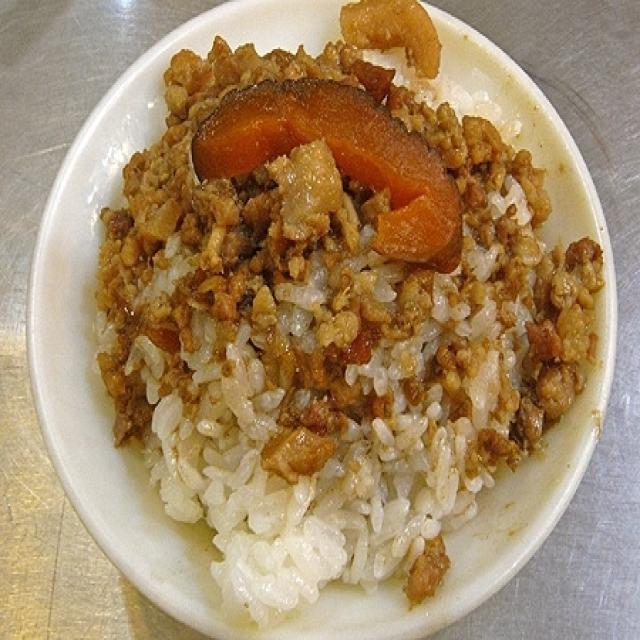猪肉菜式: (47, 36, 623, 615)
